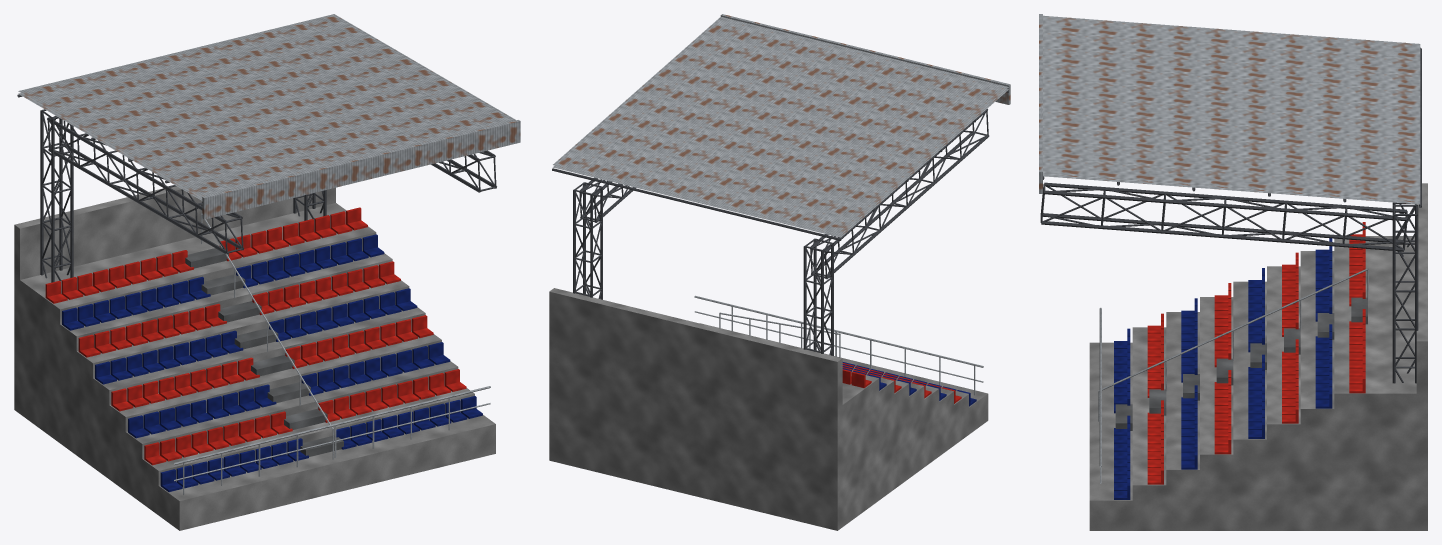
Rendered from bay_10m_roof.glb.
The picture shows the model from 3 angles, left to right: view 1: azimuth 30°, elevation 25°; view 2: azimuth 150°, elevation 25°; view 3: azimuth 270°, elevation 25°; orthographic projection. The views are drawn at different scales.
Visible parts, largest first — view 1: bay_10m_roof; view 2: bay_10m_roof; view 3: bay_10m_roof.
Part boxes in pixels (x1=…): bay_10m_roof: x1=14, y1=14, x2=520, y2=530; bay_10m_roof: x1=549, y1=14, x2=1010, y2=530; bay_10m_roof: x1=1039, y1=14, x2=1427, y2=530.
Bounding box in the file's own units: 10 × 10.62 × 10.4.
Materials: 7 (7 with a texture image).
